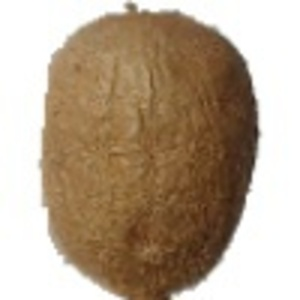kiwi: (39, 1, 262, 300)
